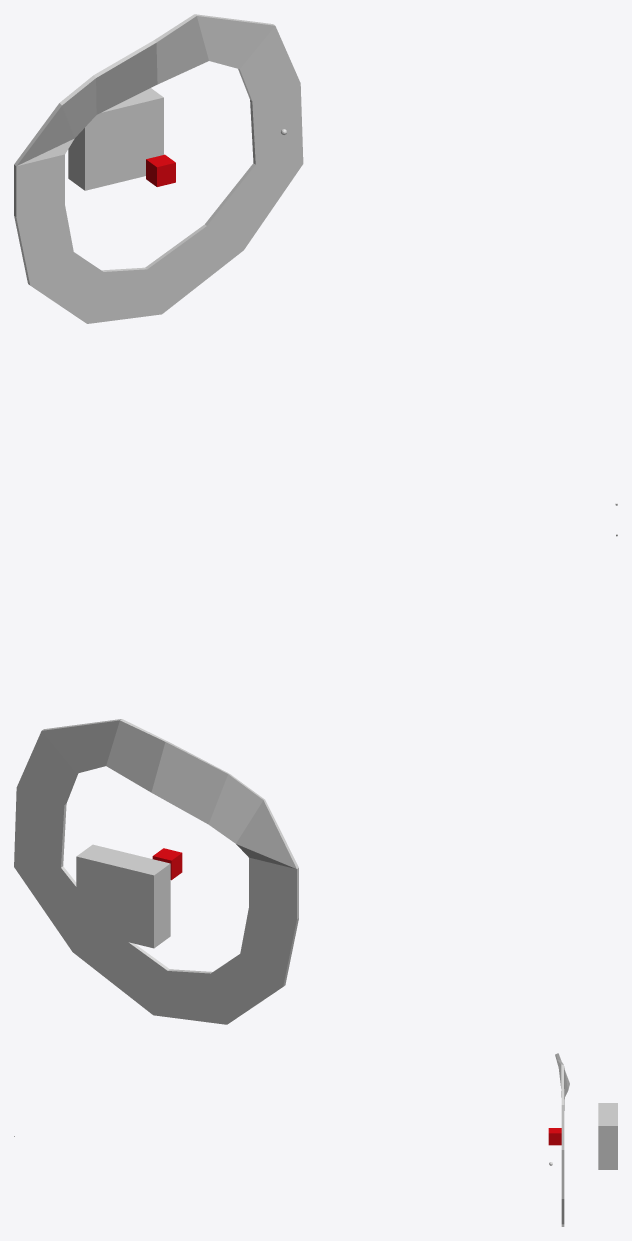
Rendered from level3.gltf.
The picture shows the model from 3 angles, top to bottom: view 1: azimuth 30°, elevation 25°; view 2: azimuth 150°, elevation 25°; view 3: azimuth 270°, elevation 25°; orthographic projection. The views are drawn at different scales.
Parts seen in each view (by area): view 1: ring, Cube, Cube.002; view 2: ring, Cube; view 3: Cube, ring.
Boxes of the visible parts, box(x1,y1,x2,y2) form: ring: box(14, 14, 303, 323); Cube: box(68, 88, 163, 190); Cube.002: box(146, 154, 175, 186); ring: box(14, 719, 298, 1024); Cube: box(76, 844, 170, 948); Cube: box(598, 1103, 617, 1169); ring: box(555, 1053, 569, 1226).
Size of what is drawn, in the model's own units: 414 by 401 by 1273.
